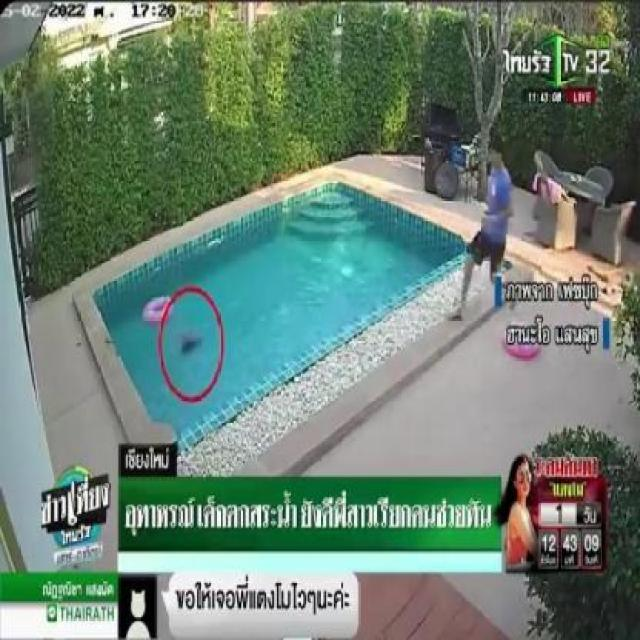drowning: (171, 321, 206, 373)
